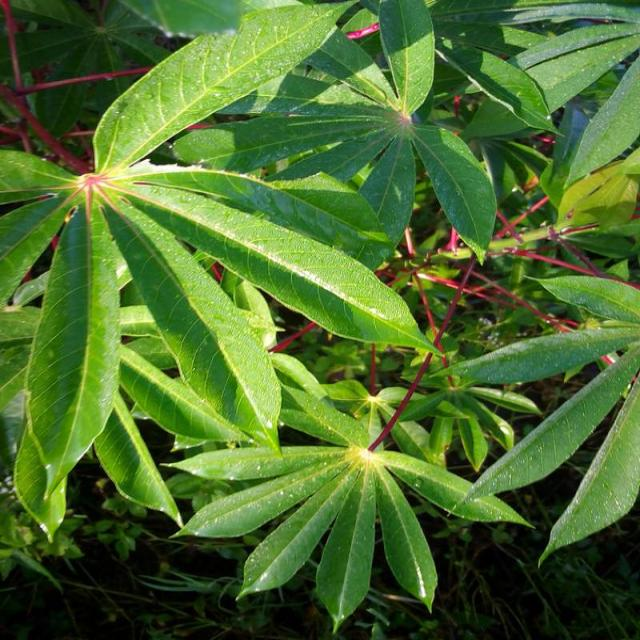cassava leaf: (2, 1, 640, 628)
